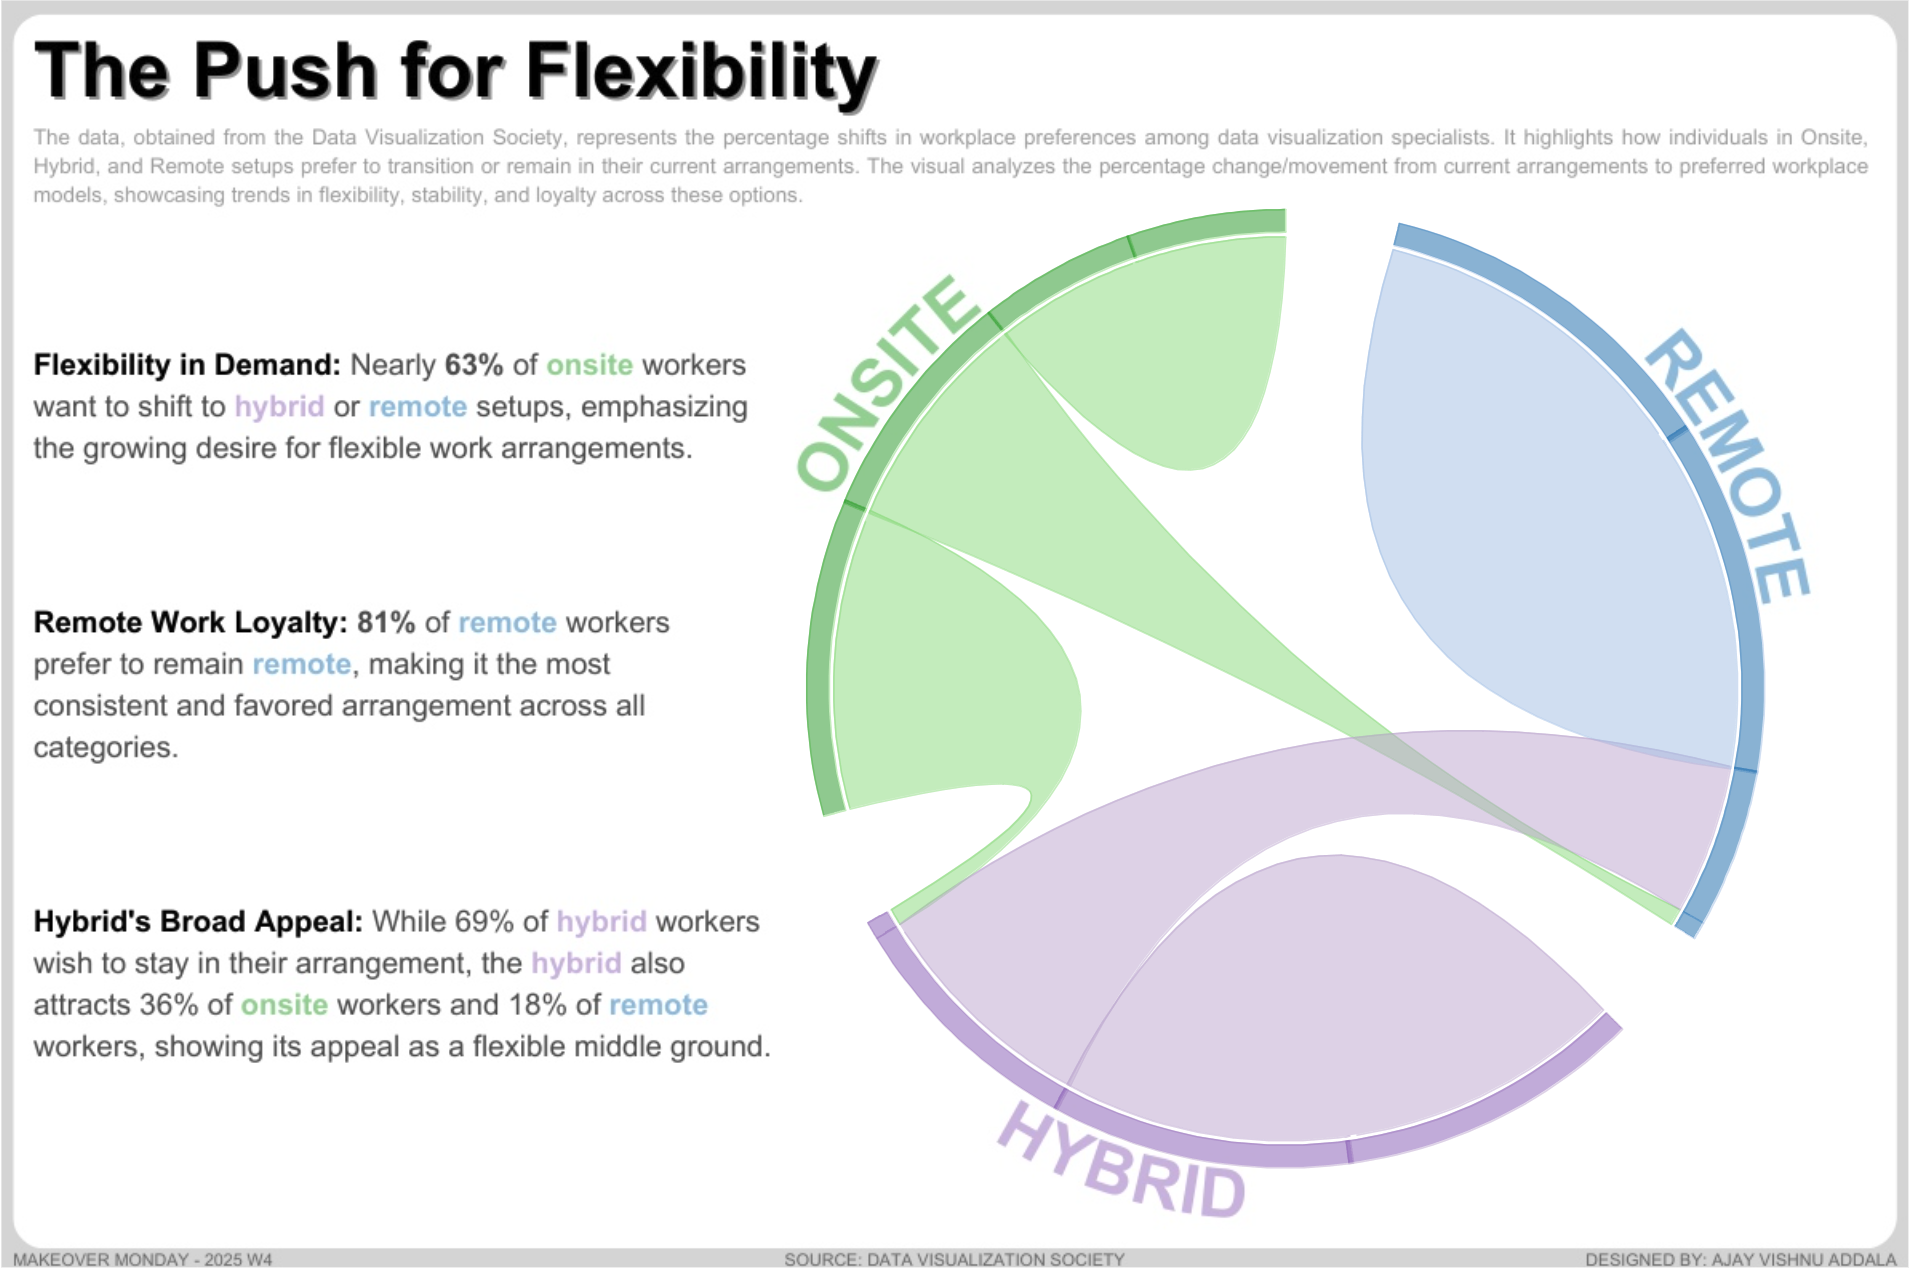

The dashboard page shown, as its layout file describes it:
{"tool":"tableau","page":{"name":"MOM 2025 - W4","canvas":[1200,800],"ordinal":0},"visuals":[{"type":"image","param":"Image/Your paragraph text (2).png","box":[4,4,1192,792]}]}

Visuals, with their boxes in screenshot pixels (x1, y1, x2, y2), scaled from the page's 1200x800 canvas onto the 1912x1274 screenshot:
image: bbox=[6, 6, 1906, 1268]
